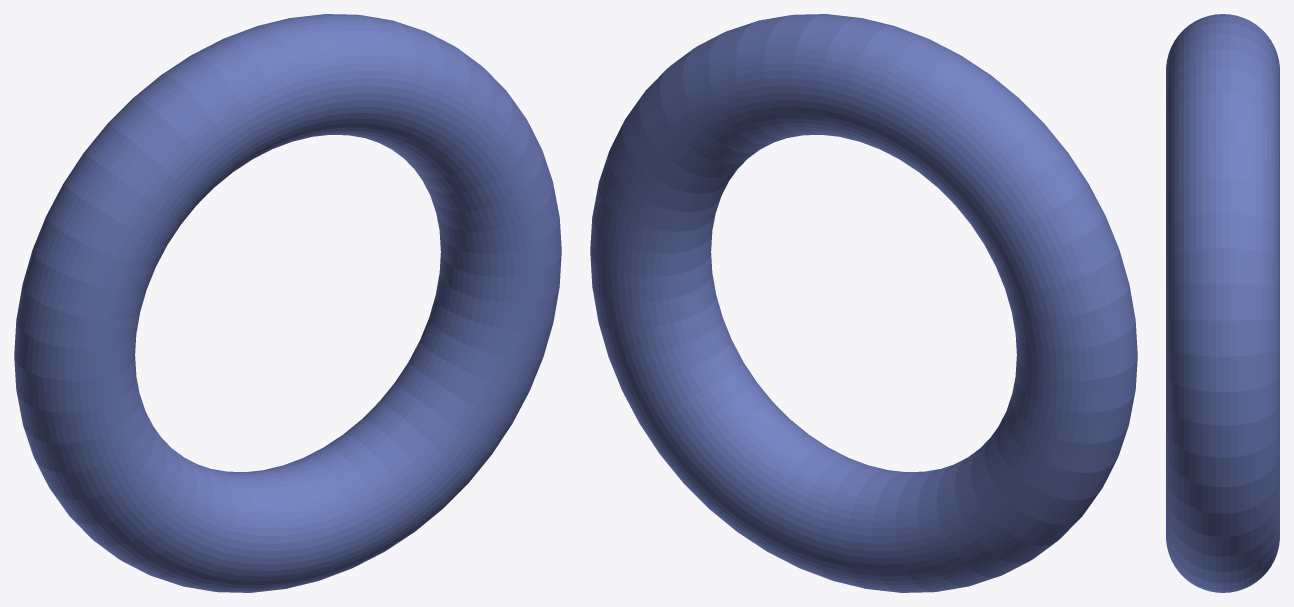
3 renders of one model, left to right at view 1: azimuth 30°, elevation 25°; view 2: azimuth 150°, elevation 25°; view 3: azimuth 270°, elevation 25°, orthographic. The views are drawn at different scales.
Visible parts, largest first — view 1: world; view 2: world; view 3: world.
Boxes of the visible parts, x1,y1,x2,y2 form: world: (14,14,561,592); world: (590,14,1137,592); world: (1166,14,1279,592).
Bounding box in the file's own units: 18.27 × 18.23 × 3.59.
